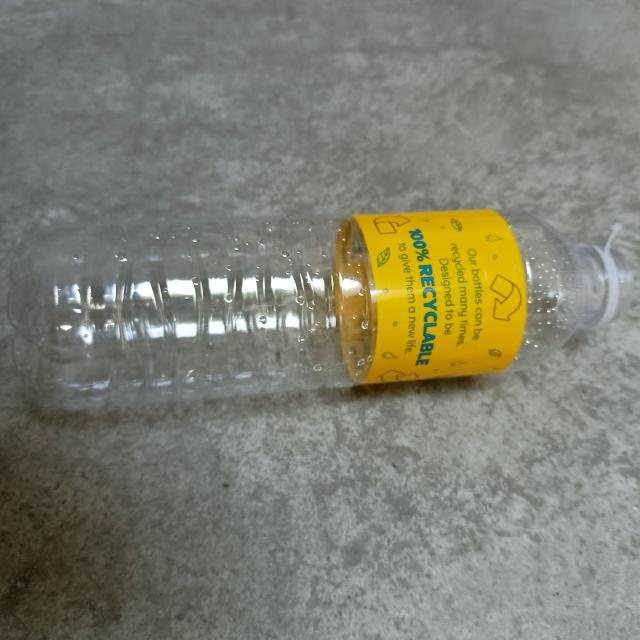Bottle: (7, 209, 633, 409)
